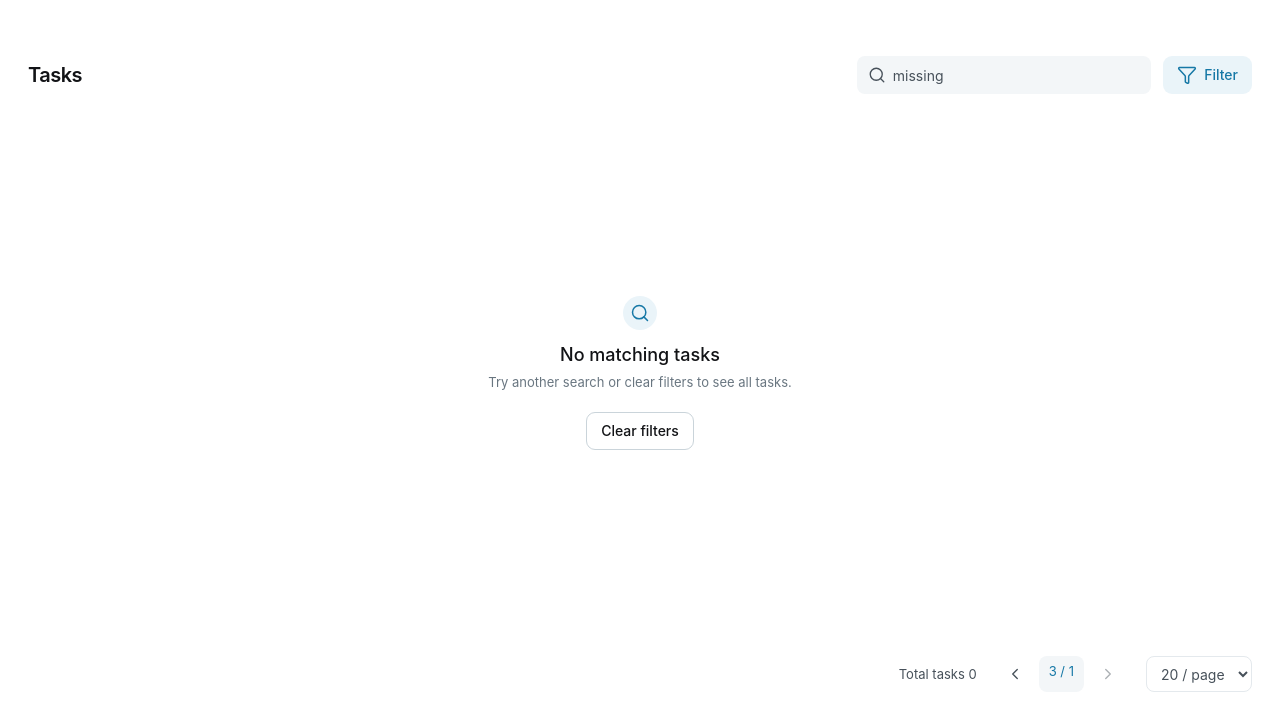
it: clearing no-match filters removes search, status and mode and resets the page
The width and height of the screenshot is (1280, 720).
expect the heading "No matching tasks" is shown: met, box left=560, top=344, right=720, bottom=366
Click the button "Clear filters" at (640, 430), box left=586, top=412, right=694, bottom=450
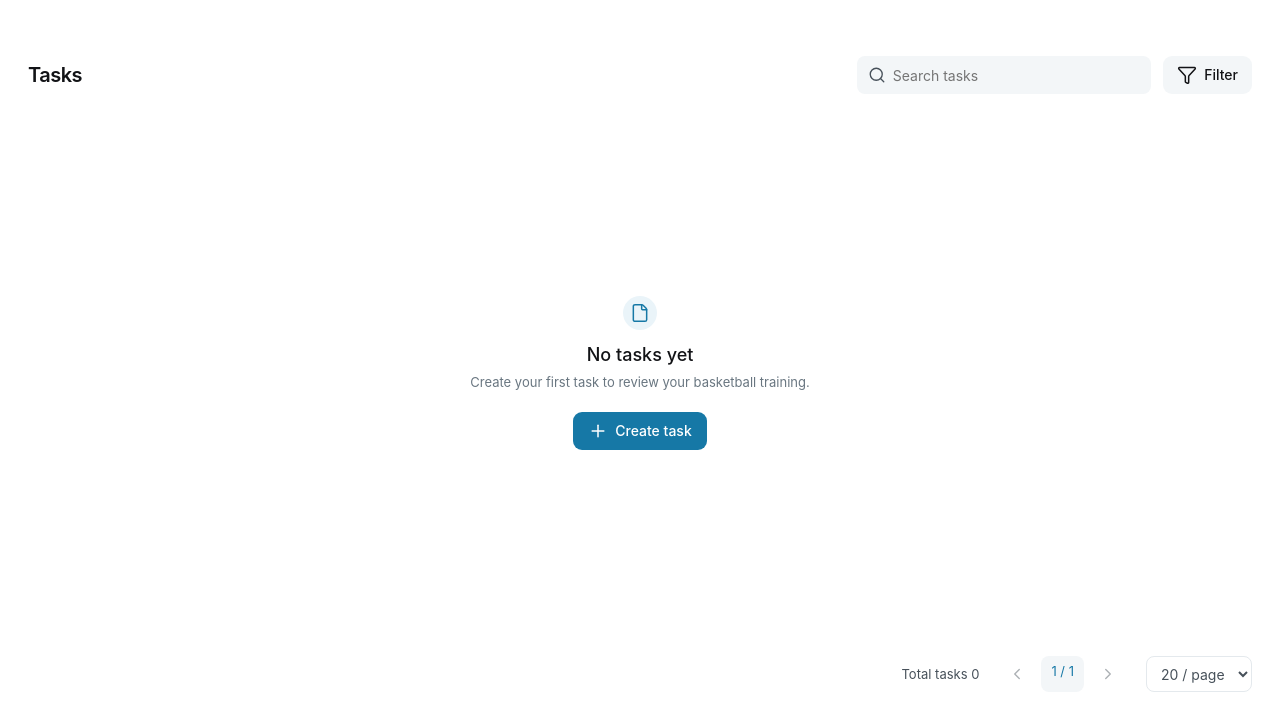
expect the heading "No tasks yet" is shown: met, box left=587, top=344, right=693, bottom=366
expect the search field is empty: met, box left=857, top=56, right=1151, bottom=94
